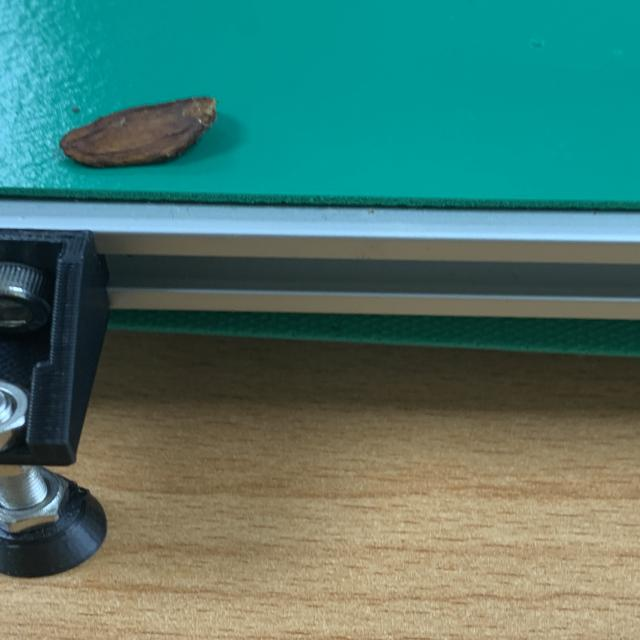Flat_cocoabeans: (0, 58, 322, 220)
